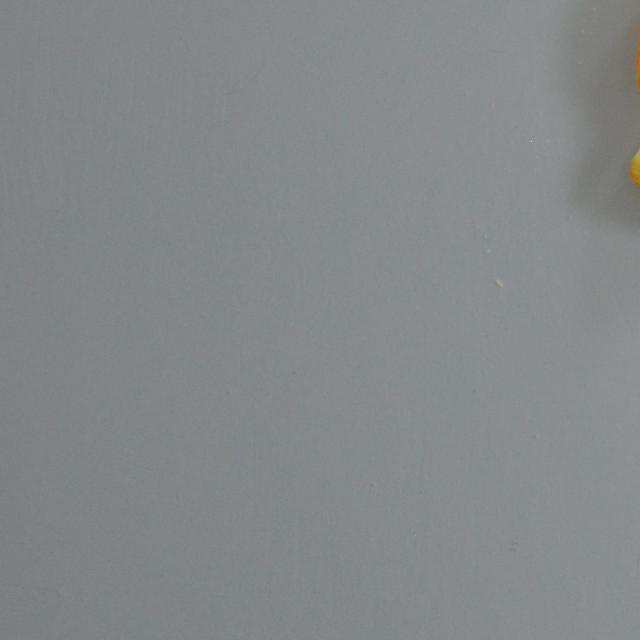estandar: (626, 119, 640, 226)
